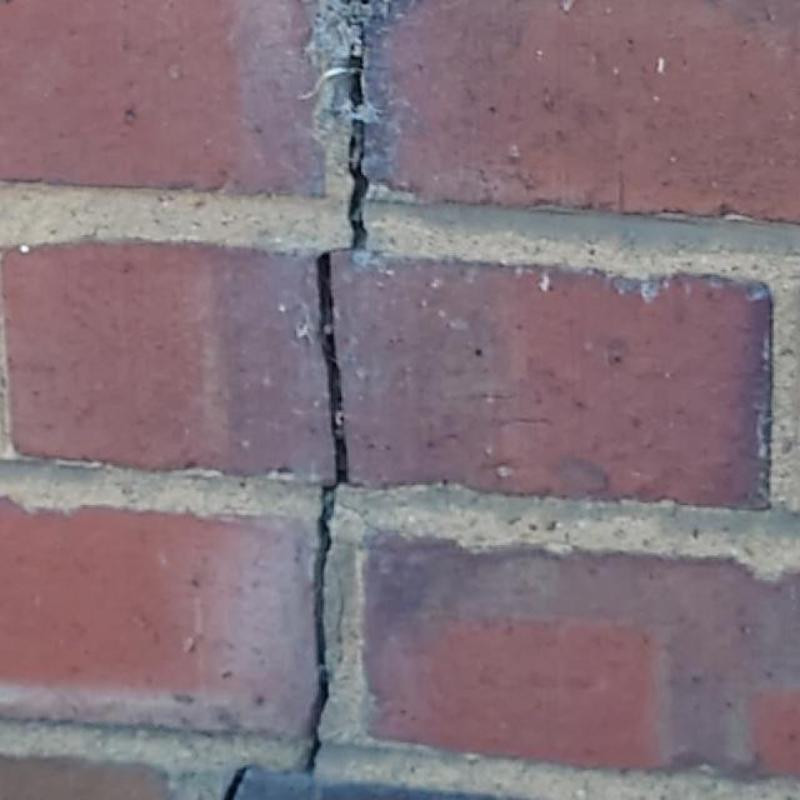pothole: (316, 252, 348, 722), (350, 119, 369, 250), (223, 768, 252, 800), (350, 53, 362, 112), (307, 724, 320, 775)
